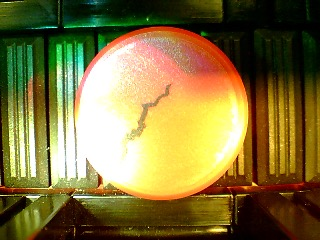CRACK: (73, 27, 249, 201)
